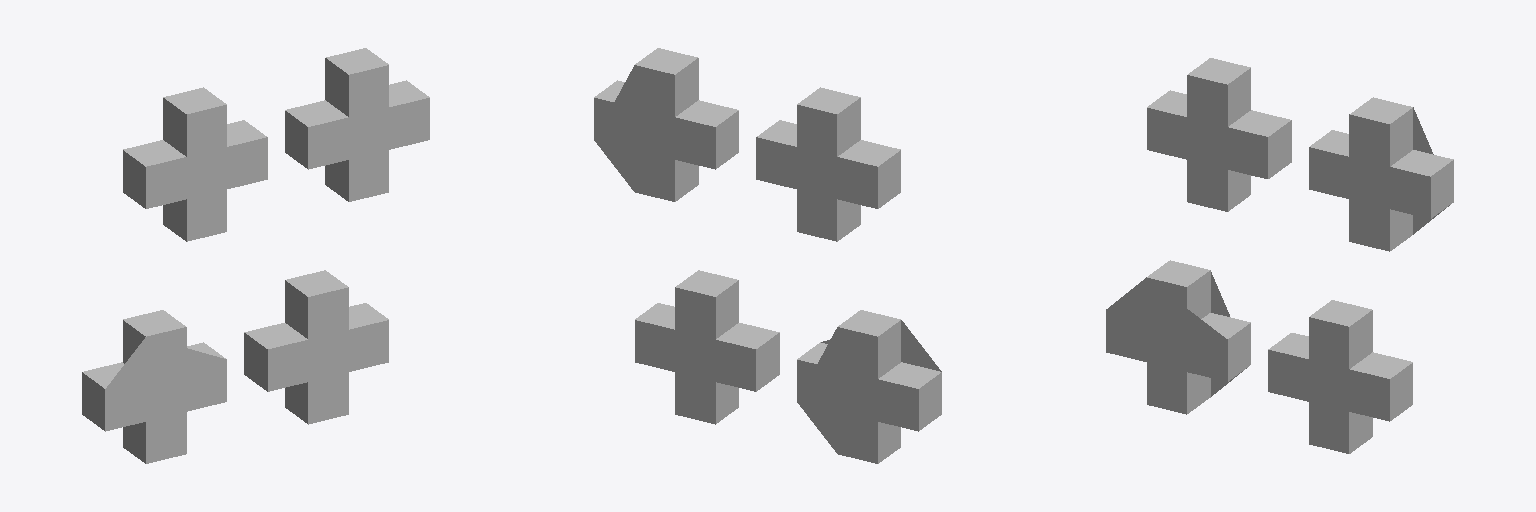
Rendered from Trap_Wall_Small_Deactivated.obj.
The picture shows the model from 3 angles: view 1: azimuth 30°, elevation 25°; view 2: azimuth 150°, elevation 25°; view 3: azimuth 330°, elevation 25°; orthographic projection.
Parts seen in each view (by area): view 1: Trap_Wall_Small_Deactivated_Trap_Wall_Small_Deactivated.001; view 2: Trap_Wall_Small_Deactivated_Trap_Wall_Small_Deactivated.001; view 3: Trap_Wall_Small_Deactivated_Trap_Wall_Small_Deactivated.001.
Boxes of the visible parts, x1=… form: Trap_Wall_Small_Deactivated_Trap_Wall_Small_Deactivated.001: x1=82, y1=48, x2=429, y2=463; Trap_Wall_Small_Deactivated_Trap_Wall_Small_Deactivated.001: x1=594, y1=48, x2=941, y2=463; Trap_Wall_Small_Deactivated_Trap_Wall_Small_Deactivated.001: x1=1106, y1=58, x2=1453, y2=453.
Size of the model in its own units: 0.8 by 0.8 by 0.1.